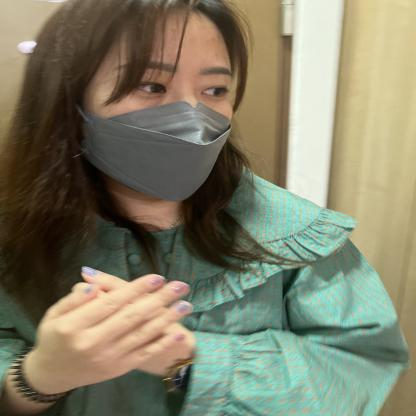Grieve: (2, 243, 258, 416)
